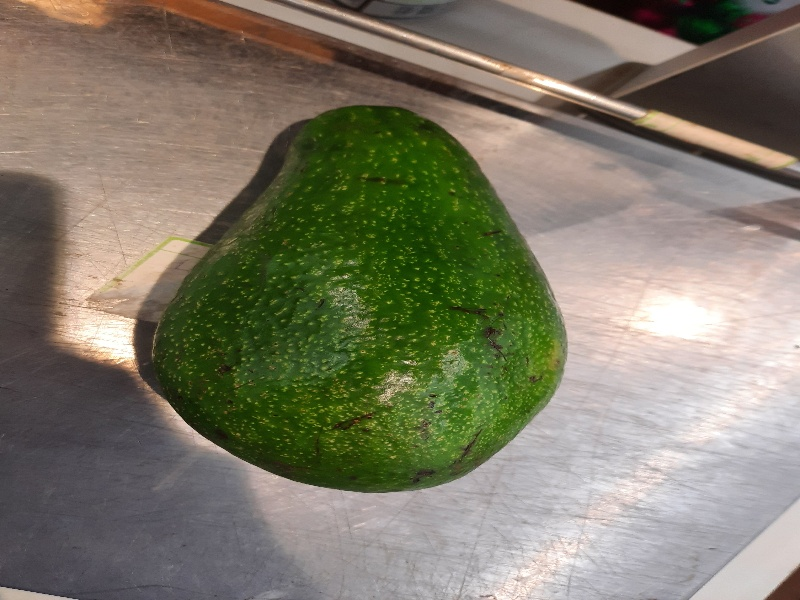fruit: (146, 92, 570, 499)
